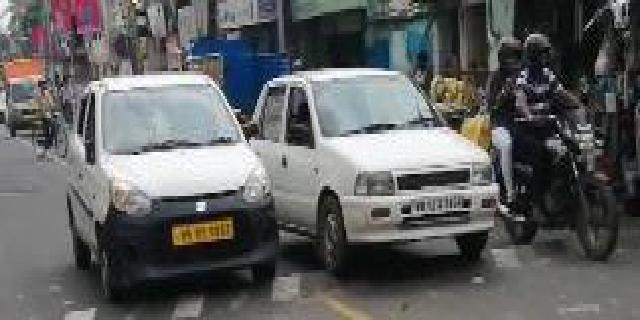Car: (262, 55, 498, 301), (64, 73, 280, 314)
Motorbike: (487, 25, 628, 272)
